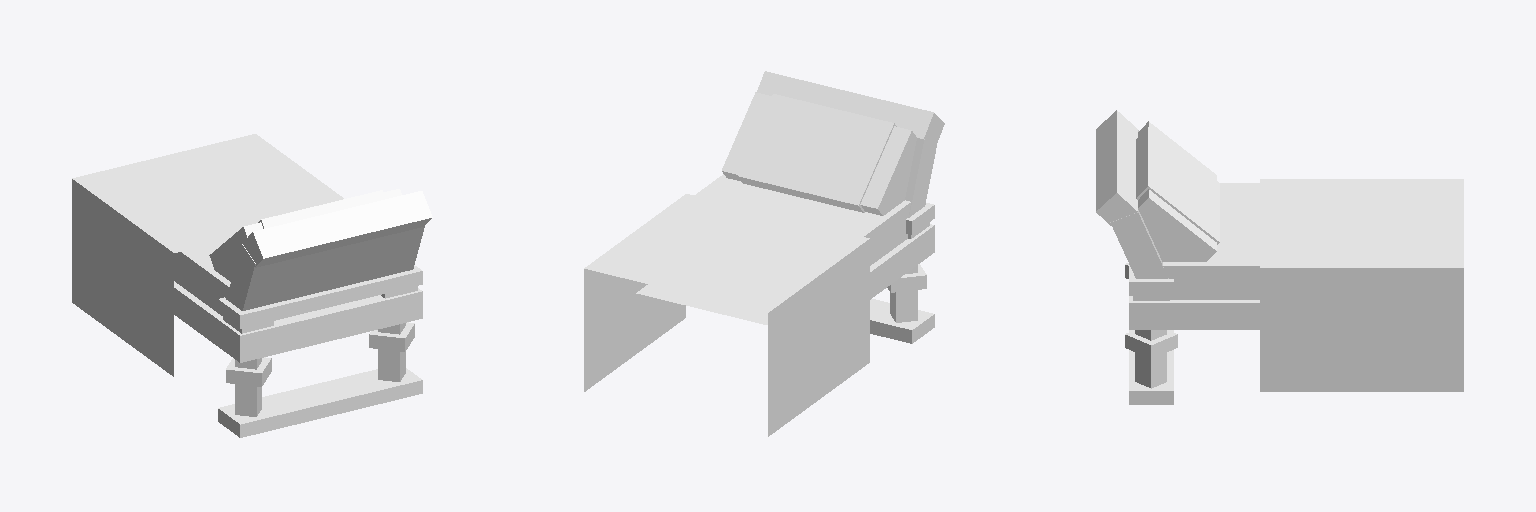
The model's file is banquet_couch_rug.obj.
3 views of the same model, side by side, from view 1: azimuth 30°, elevation 25°; view 2: azimuth 150°, elevation 25°; view 3: azimuth 270°, elevation 25° (orthographic).
Visible parts, largest first — view 1: rug, cube, cube.007, cube.006, cube.002, cube.008, cube.011, cube.012, cube.005, cube.000, cube.001, cube.004 (+1 smaller); view 2: rug, cube.012, cube.011, cube.005, cube.006, cube, cube.002, cube.007, cube.001, cube.004, cube.008; view 3: rug, cube.011, cube.012, cube.006, cube, cube.005, cube.007, cube.002, cube.000, cube.003, cube.008.
Part boxes in pixels (bbox=[...]): rug: bbox=[72, 134, 343, 376]; cube: bbox=[174, 281, 422, 362]; cube.007: bbox=[226, 227, 424, 310]; cube.006: bbox=[242, 191, 432, 267]; cube.002: bbox=[218, 368, 422, 437]; cube.008: bbox=[218, 265, 422, 328]; cube.011: bbox=[174, 241, 230, 315]; cube.012: bbox=[258, 190, 384, 228]; cube.005: bbox=[209, 189, 401, 281]; cube.000: bbox=[378, 323, 405, 381]; cube.001: bbox=[235, 358, 261, 416]; cube.004: bbox=[226, 357, 271, 386]; rug: bbox=[584, 194, 869, 436]; cube.012: bbox=[738, 94, 896, 212]; cube.011: bbox=[694, 174, 910, 265]; cube.005: bbox=[722, 92, 916, 215]; cube.006: bbox=[756, 71, 944, 139]; cube: bbox=[636, 224, 934, 324]; cube.002: bbox=[870, 299, 934, 343]; cube.007: bbox=[905, 138, 937, 217]; cube.001: bbox=[890, 265, 917, 322]; cube.004: bbox=[887, 264, 926, 292]; cube.008: bbox=[906, 203, 934, 234]; rug: bbox=[1260, 179, 1463, 391]; cube.011: bbox=[1163, 183, 1259, 299]; cube.012: bbox=[1136, 127, 1219, 244]; cube.006: bbox=[1096, 110, 1137, 225]; cube: bbox=[1129, 296, 1259, 329]; cube.005: bbox=[1138, 121, 1216, 261]; cube.007: bbox=[1110, 130, 1168, 278]; cube.002: bbox=[1129, 330, 1173, 404]; cube.000: bbox=[1135, 330, 1166, 388]; cube.003: bbox=[1125, 330, 1177, 358]; cube.008: bbox=[1129, 265, 1173, 295].
Bounding box in the file's own units: 0.9085 × 0.9586 × 1.53.